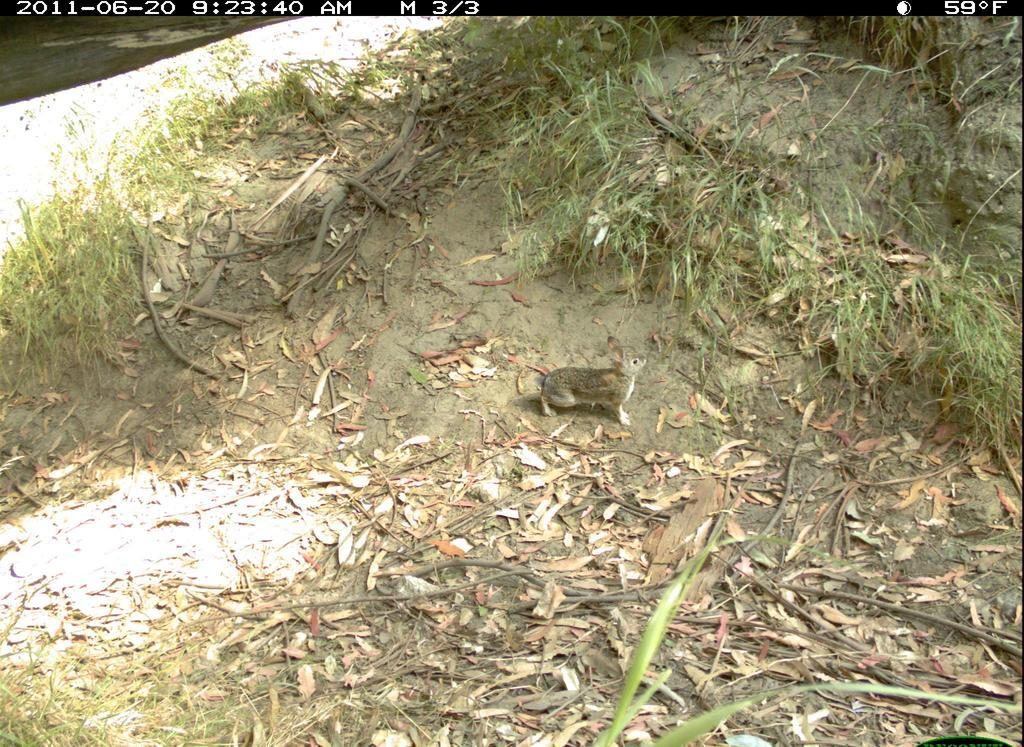rabbit: (525, 329, 653, 428)
